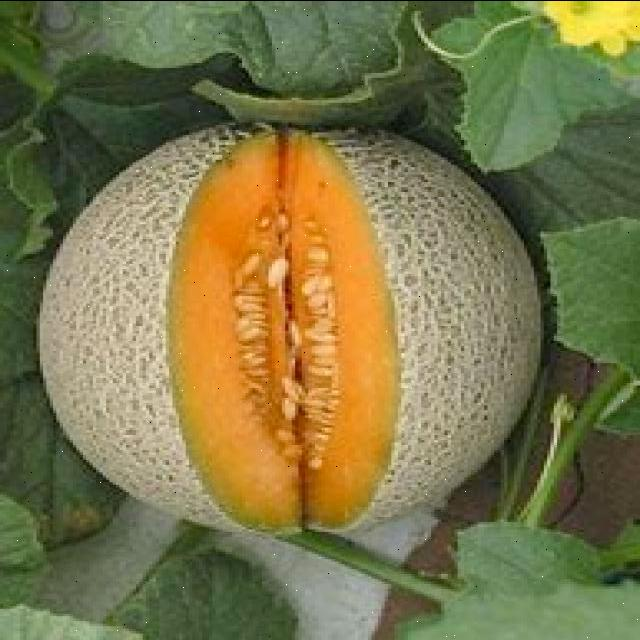Hami Melon: (41, 122, 540, 536)
